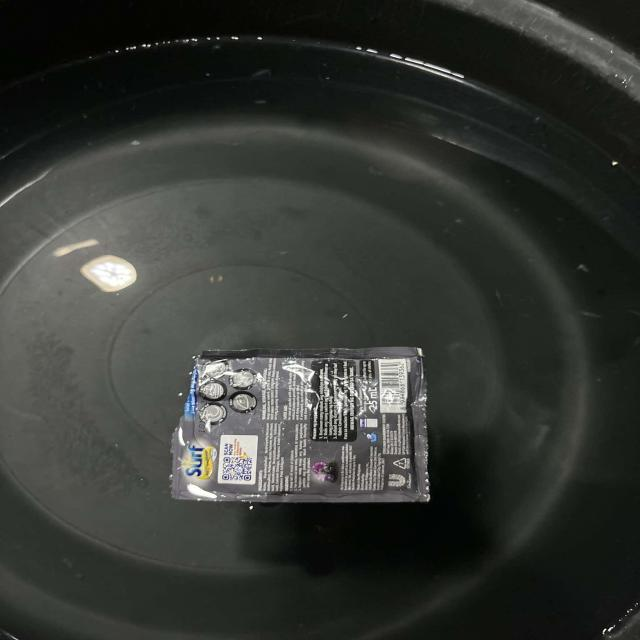Plastic Wrapper: (153, 338, 450, 512)
